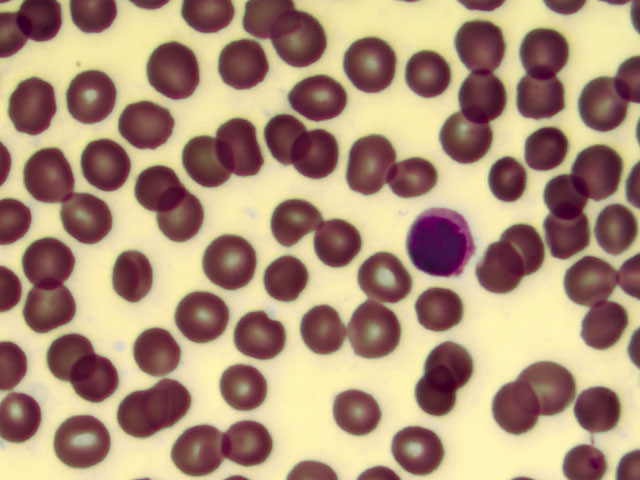RBC: (144, 39, 199, 101), (67, 63, 122, 125), (4, 75, 59, 137), (18, 144, 73, 206), (82, 136, 137, 198), (117, 99, 172, 161), (132, 163, 187, 225), (145, 184, 200, 246), (66, 190, 121, 252), (18, 231, 73, 293), (14, 273, 69, 335), (40, 327, 95, 389), (78, 358, 133, 420), (113, 247, 168, 309), (203, 234, 258, 296), (176, 288, 231, 350), (133, 318, 188, 380), (144, 370, 199, 432), (116, 390, 171, 452), (50, 410, 105, 472), (5, 389, 60, 451), (172, 415, 227, 477), (216, 414, 271, 476), (224, 356, 279, 418), (234, 311, 289, 373), (258, 247, 313, 309), (267, 197, 322, 259), (321, 211, 376, 273), (362, 240, 417, 302), (347, 300, 402, 362), (304, 303, 359, 365), (334, 382, 389, 444), (384, 418, 439, 480), (405, 367, 460, 429), (426, 336, 481, 398), (418, 277, 473, 339), (472, 244, 527, 306), (506, 223, 561, 285), (481, 150, 536, 212), (443, 110, 498, 172), (454, 67, 509, 129), (452, 10, 507, 72), (394, 44, 449, 106), (340, 36, 395, 98), (289, 67, 344, 129), (275, 5, 330, 67), (217, 37, 272, 99), (253, 106, 308, 168), (297, 126, 352, 188), (337, 129, 392, 191), (389, 152, 444, 214), (215, 116, 270, 178), (180, 127, 235, 189), (533, 163, 588, 225), (511, 119, 566, 181), (511, 67, 566, 129), (517, 27, 572, 89), (571, 75, 626, 137), (566, 132, 621, 194), (580, 192, 635, 254), (559, 248, 614, 310), (568, 293, 623, 355), (523, 352, 578, 414), (493, 381, 548, 443), (561, 376, 616, 438), (556, 442, 612, 480)
WBC: (407, 205, 479, 279)
